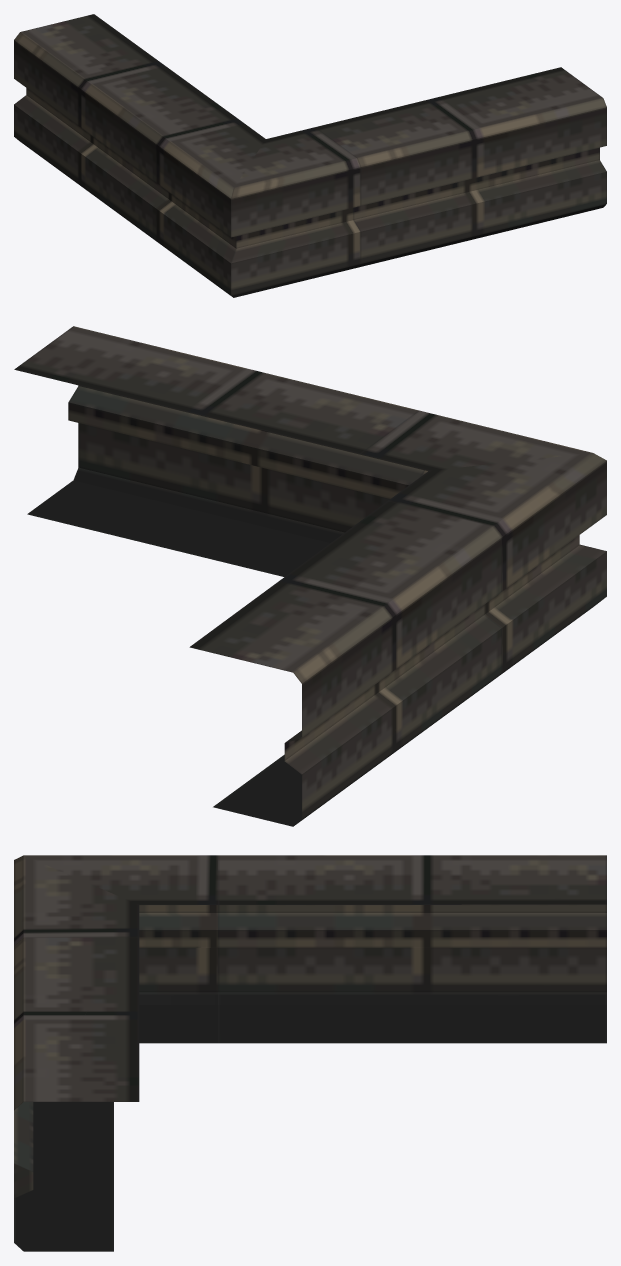
The model's file is EnvMdrMD_Castle_A_Wall_CoOut_RS_Base.FBX.
The picture shows the model from 3 angles, top to bottom: view 1: azimuth 30°, elevation 25°; view 2: azimuth 150°, elevation 25°; view 3: azimuth 270°, elevation 25°; orthographic projection. The views are drawn at different scales.
Visible parts, largest first — view 1: EnvMdrMD_Castle_A_Wall_CoOut_RS_Base; view 2: EnvMdrMD_Castle_A_Wall_CoOut_RS_Base; view 3: EnvMdrMD_Castle_A_Wall_CoOut_RS_Base.
Boxes of the visible parts, box(x1,y1,x2,y2) form: EnvMdrMD_Castle_A_Wall_CoOut_RS_Base: box(14, 14, 606, 297); EnvMdrMD_Castle_A_Wall_CoOut_RS_Base: box(14, 326, 606, 826); EnvMdrMD_Castle_A_Wall_CoOut_RS_Base: box(14, 855, 606, 1251).
Size of the model in its own units: 305 by 85 by 305.
Materials: 1 (1 with a texture image).
